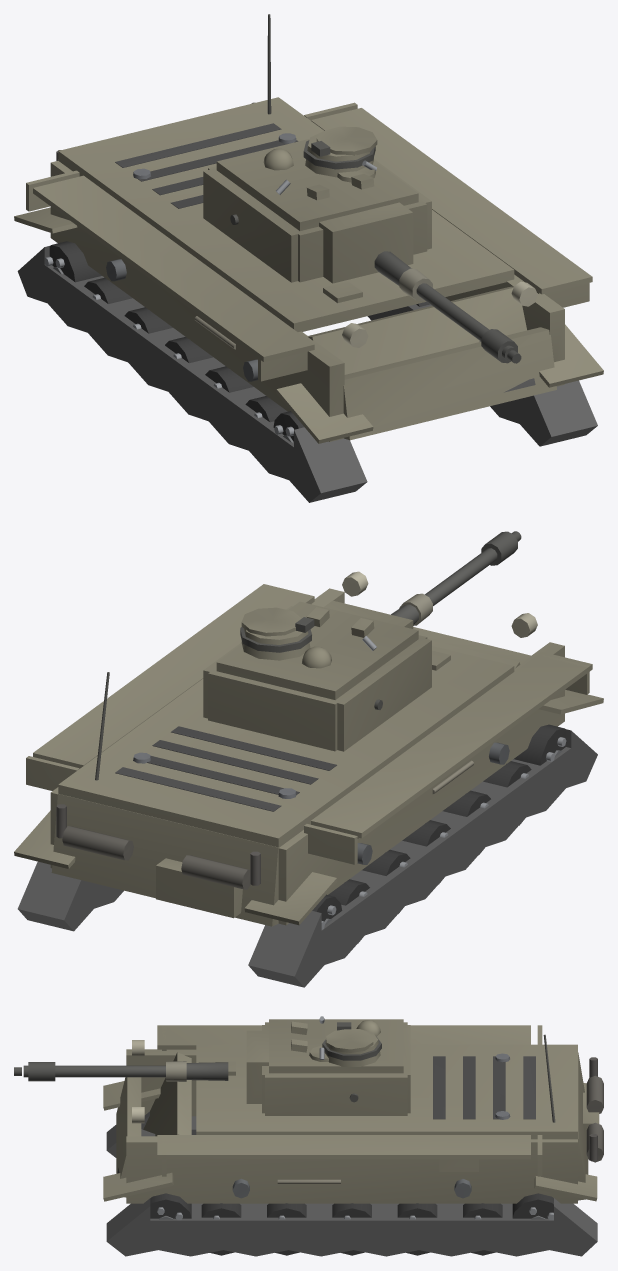
The model's file is crusader.glb.
3 renders of one model, top to bottom at view 1: azimuth 30°, elevation 25°; view 2: azimuth 150°, elevation 25°; view 3: azimuth 270°, elevation 25°, orthographic. The views are drawn at different scales.
Parts seen in each view (by area): view 1: hullSide, hullTop, tracks, lowerPlate, turretRoof, glacis, turretSide, mantlet, barrel, turretFront, wheel6, wheel0 (+3 smaller); view 2: hullSide, hullTop, tracks, hullRear, turretRoof, turretRear, turretSide, barrel, wheel5, lowerPlate, mantlet, glacis (+5 smaller); view 3: hullSide, tracks, hullTop, turretRoof, turretSide, barrel, hullRear, glacis, lowerPlate, mantlet, wheel12, wheel13 (+6 smaller).
Part boxes in pixels (x1,y1,x2,y2): hullSide: (26, 102, 592, 441); hullTop: (58, 97, 514, 331); tracks: (14, 207, 603, 502); lowerPlate: (343, 327, 556, 440); turretRoof: (216, 126, 418, 230); glacis: (308, 281, 535, 392); turretSide: (203, 159, 431, 282); mantlet: (319, 202, 413, 283); barrel: (374, 251, 521, 363); turretFront: (298, 198, 427, 282); wheel6: (45, 241, 101, 282); wheel0: (84, 277, 132, 303); hullSide: (26, 571, 592, 925); hullTop: (58, 646, 514, 847); tracks: (14, 689, 603, 987); hullRear: (51, 672, 279, 926); turretRoof: (216, 601, 418, 699); turretRear: (208, 668, 342, 751); turretSide: (203, 606, 431, 751); barrel: (391, 531, 521, 625); wheel5: (513, 724, 566, 765); lowerPlate: (413, 627, 530, 663); mantlet: (324, 600, 413, 628); glacis: (432, 640, 520, 670); hullSide: (126, 1025, 577, 1203); tracks: (103, 1081, 597, 1256); hullTop: (196, 1044, 577, 1139); turretRoof: (269, 1016, 403, 1073); turretSide: (265, 1022, 407, 1115); barrel: (14, 1061, 228, 1081); hullRear: (543, 1034, 603, 1200); glacis: (117, 1052, 235, 1173); lowerPlate: (116, 1077, 141, 1197); mantlet: (246, 1030, 268, 1103); wheel12: (150, 1193, 191, 1220); wheel13: (512, 1193, 553, 1220).
Size of the model in its own units: 3.88 by 2.8 by 7.45.
